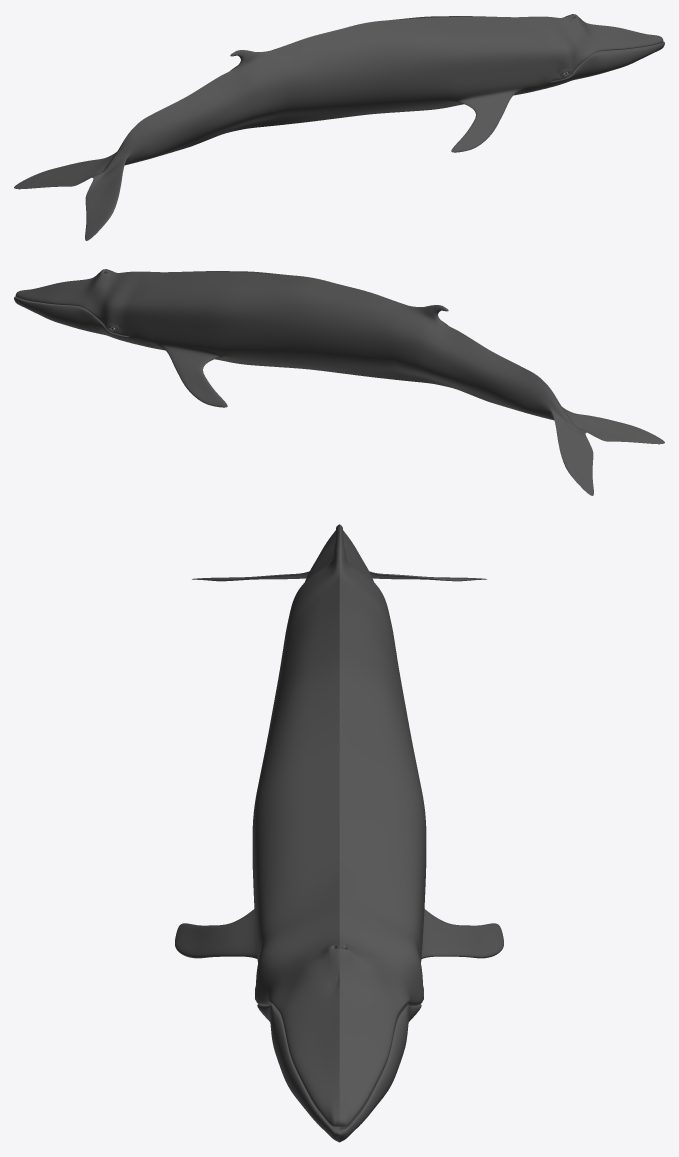
File: 6.BallenaRorcualAleta.glb
3 renders of one model, top to bottom at view 1: azimuth 30°, elevation 25°; view 2: azimuth 150°, elevation 25°; view 3: azimuth 270°, elevation 25°, orthographic. The views are drawn at different scales.
Parts seen in each view (by area): view 1: Cube; view 2: Cube; view 3: Cube.
Part boxes in pixels (x1=…): Cube: x1=14, y1=14, x2=664, y2=240; Cube: x1=14, y1=269, x2=664, y2=495; Cube: x1=175, y1=524, x2=503, y2=1142.
Bounding box in the file's own units: 15.1 × 2.78 × 3.5.
2 materials, 1 textured.
